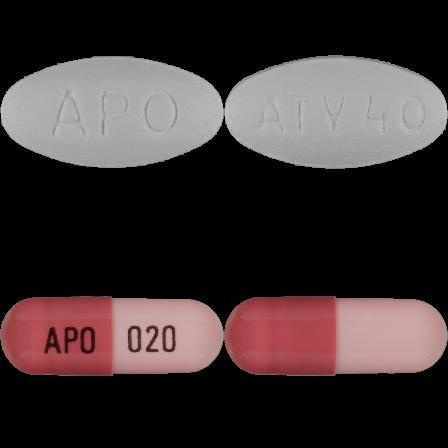10544-874: (0, 0, 224, 224)
